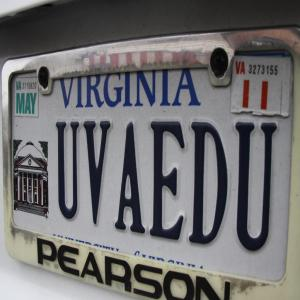Vehicle-registration-plate: (1, 41, 300, 286)
